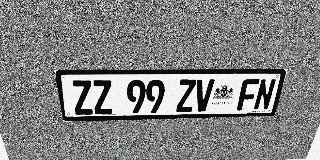9: (127, 80, 146, 113), (146, 80, 165, 113)
F: (237, 79, 260, 111)
N: (253, 79, 277, 110)
V: (194, 79, 215, 112)
Z: (70, 80, 94, 115), (91, 80, 113, 114), (176, 79, 196, 112)
